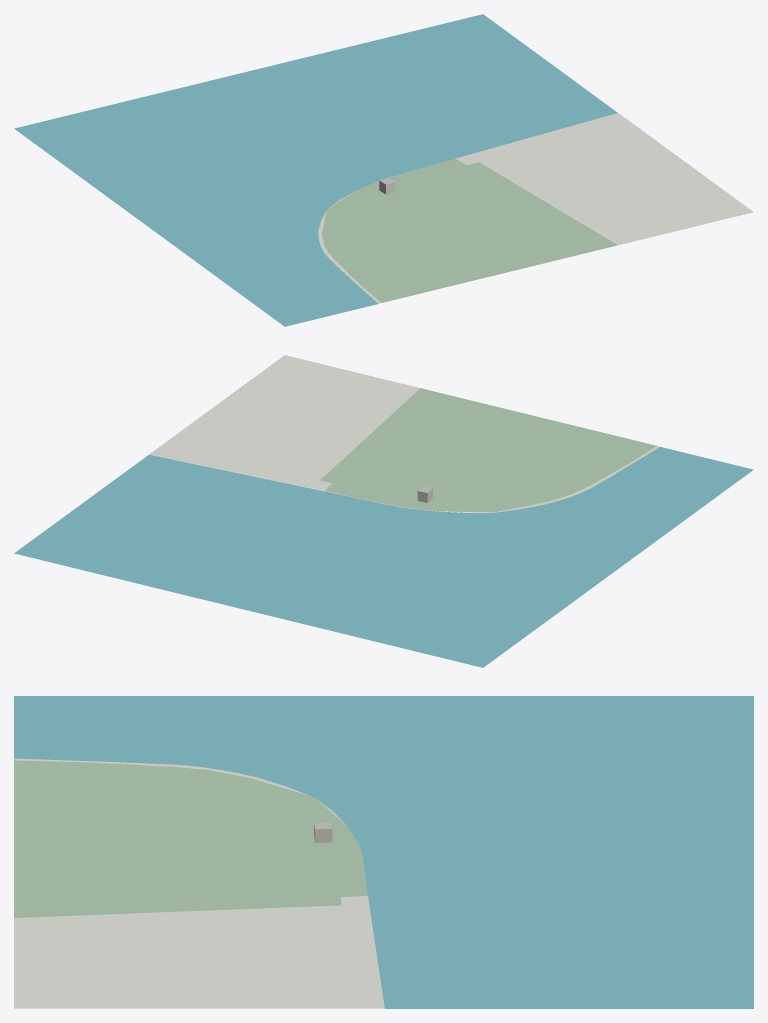
The picture shows the model from 3 angles, top to bottom: view 1: azimuth 30°, elevation 25°; view 2: azimuth 150°, elevation 25°; view 3: azimuth 270°, elevation 25°; orthographic projection. The views are drawn at different scales.
Visible parts, largest first — view 1: city; view 2: city; view 3: city.
Boxes of the visible parts, x1=… form: city: x1=14, y1=14, x2=753, y2=326; city: x1=14, y1=355, x2=753, y2=667; city: x1=14, y1=696, x2=753, y2=1008.
Size of the model in its own units: 500 by 10.38 by 500.
